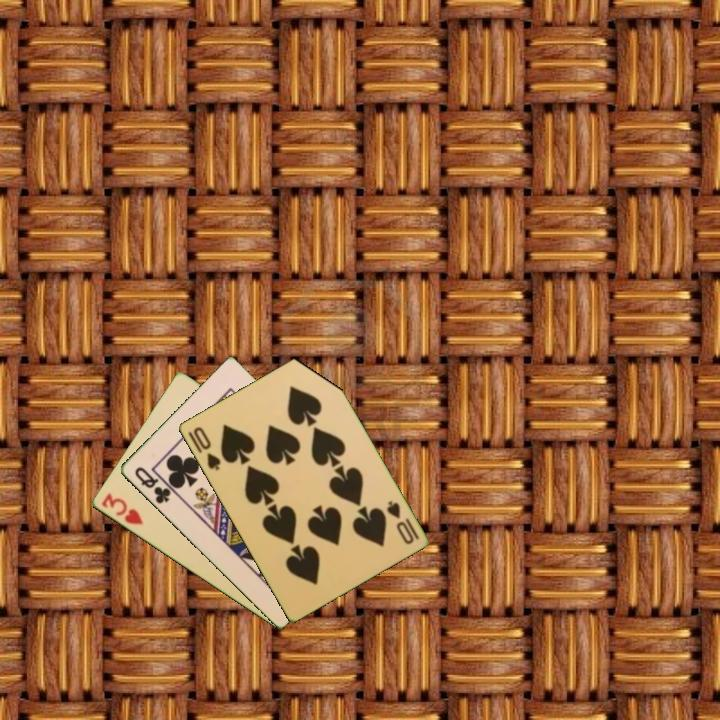10s: (383, 497, 422, 547), (189, 423, 223, 473)
3h: (98, 490, 146, 528)
Qc: (130, 463, 173, 507)
